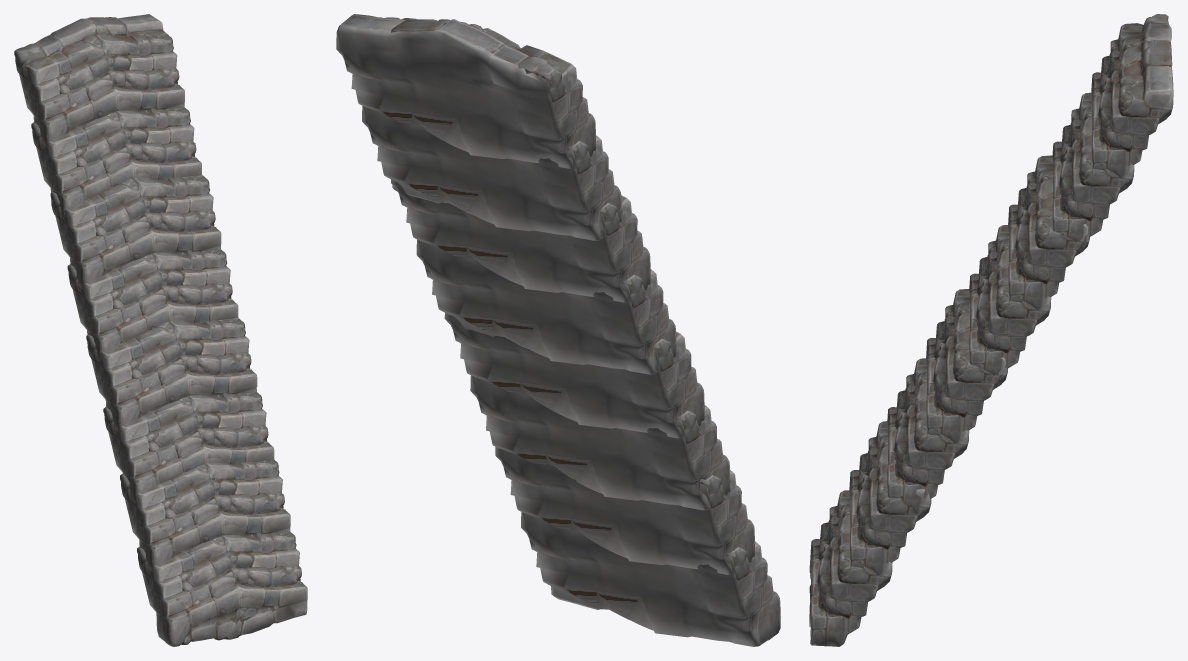
File: Dn_HL_Stairs_Fine_4m__L5_A.fbx
3 views of the same model, side by side, from view 1: azimuth 30°, elevation 25°; view 2: azimuth 150°, elevation 25°; view 3: azimuth 270°, elevation 25° (orthographic). The views are drawn at different scales.
Visible parts, largest first — view 1: Stair_Straight; view 2: Stair_Straight; view 3: Stair_Straight.
Boxes of the visible parts, x1,y1,x2,y2 form: Stair_Straight: (14, 14, 307, 646); Stair_Straight: (336, 14, 780, 646); Stair_Straight: (809, 14, 1173, 646).
Size of the model in its own units: 650 by 2221 by 1267.
